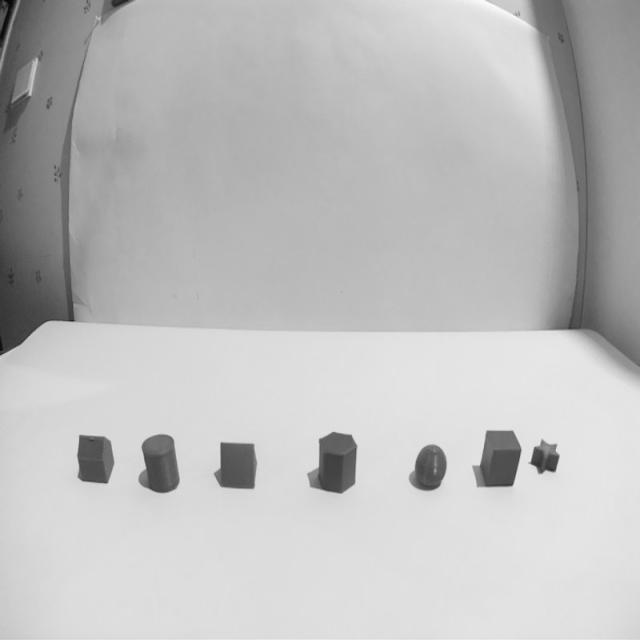ball: (412, 443, 449, 490)
cube: (480, 430, 522, 487)
cylinder: (140, 433, 181, 494)
hexagon: (318, 431, 360, 494)
home: (76, 434, 114, 484)
star: (531, 438, 561, 474)
triangle: (218, 441, 260, 492)
